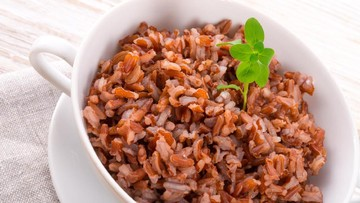Nasi Merah: (89, 8, 335, 203)
